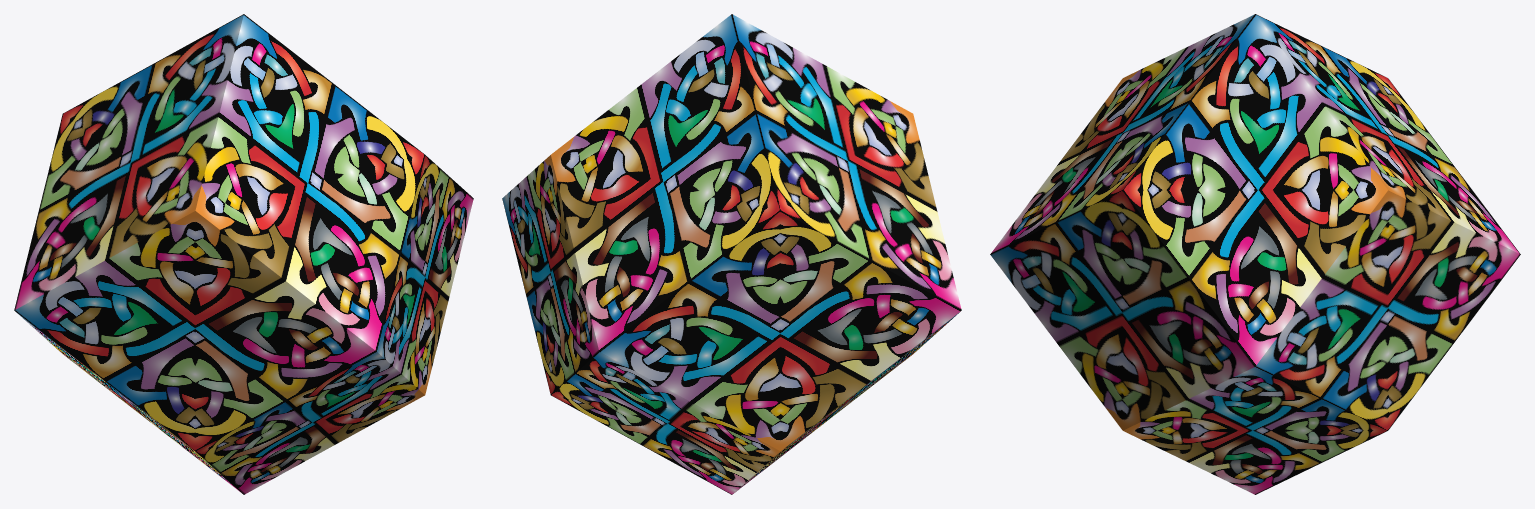
The model's file is 33RhombicDodecahedron.obj.
3 renders of one model, left to right at view 1: azimuth 30°, elevation 25°; view 2: azimuth 150°, elevation 25°; view 3: azimuth 270°, elevation 25°, orthographic.
Bounding box in the file's own units: 2.12 × 2.12 × 2.12.
Materials: 1 (1 with a texture image).
